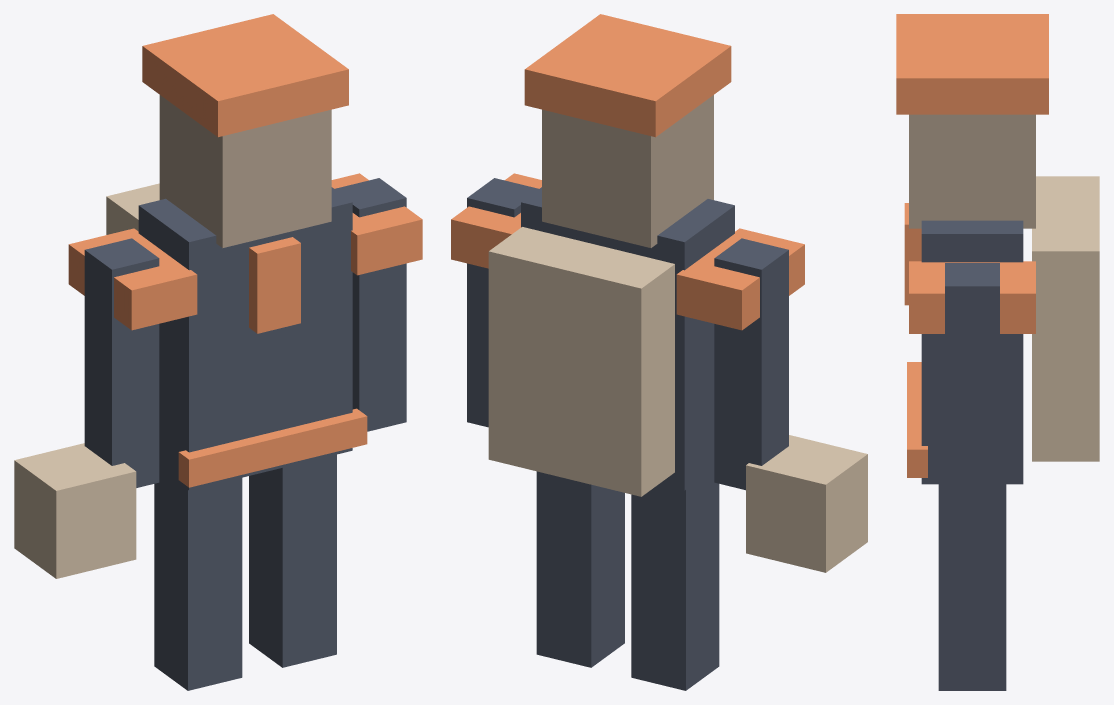
The model's file is 07_kael_chromabell_marshal_under_crater.glb.
3 views of the same model, side by side, from view 1: azimuth 30°, elevation 25°; view 2: azimuth 150°, elevation 25°; view 3: azimuth 270°, elevation 25° (orthographic).
Visible parts, largest first — view 1: Kael Chromabell, Marshal under Crater; view 2: Kael Chromabell, Marshal under Crater; view 3: Kael Chromabell, Marshal under Crater.
Part boxes in pixels (left/top/right/bottom): Kael Chromabell, Marshal under Crater: left=14, top=14, right=422, bottom=690; Kael Chromabell, Marshal under Crater: left=451, top=14, right=867, bottom=690; Kael Chromabell, Marshal under Crater: left=896, top=14, right=1099, bottom=690.
Bounding box in the file's own units: 0.9368 × 1.49 × 0.4519.
